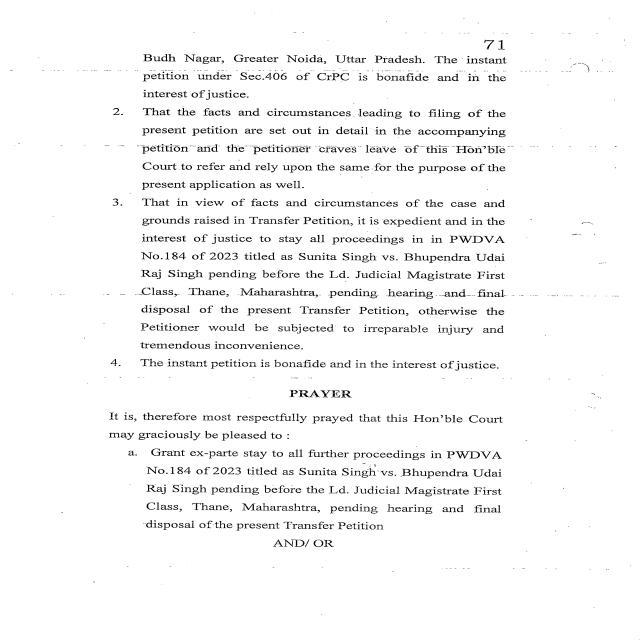page-number: (386, 0, 640, 54)
